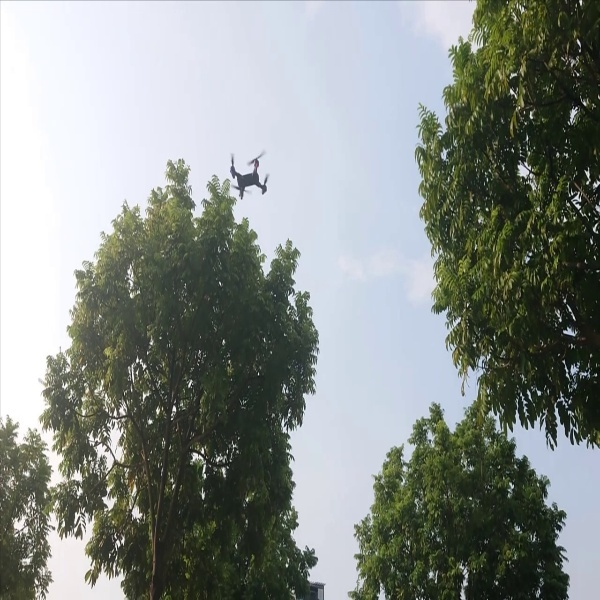drone: (221, 140, 275, 207)
